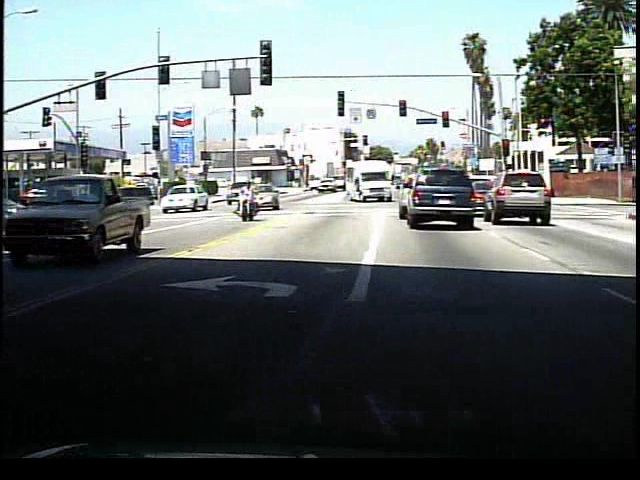person: (236, 181, 259, 224)
